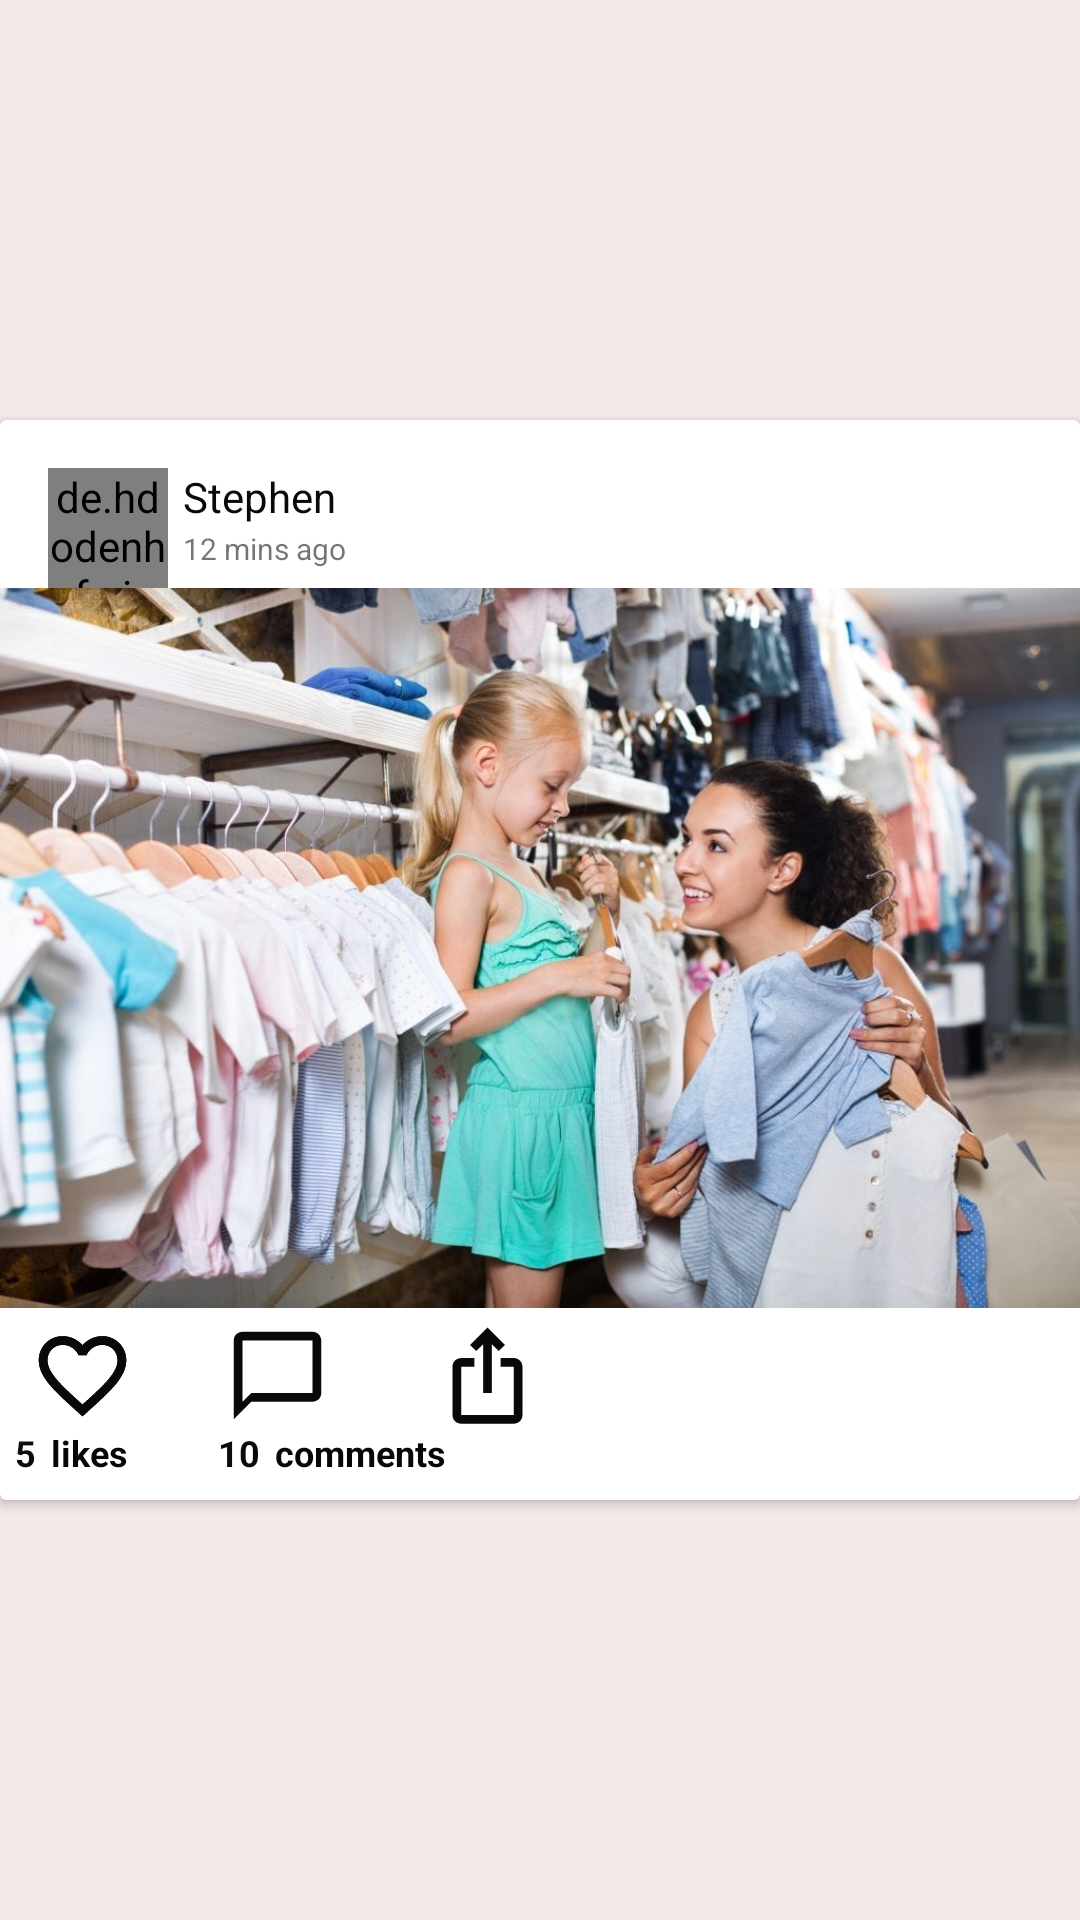

Where to tap for icons on this 1080px x 1920px app screen, as [x,y]:
chat bubble: [277,1375]
favorite border: [82,1376]
share: [487,1375]
